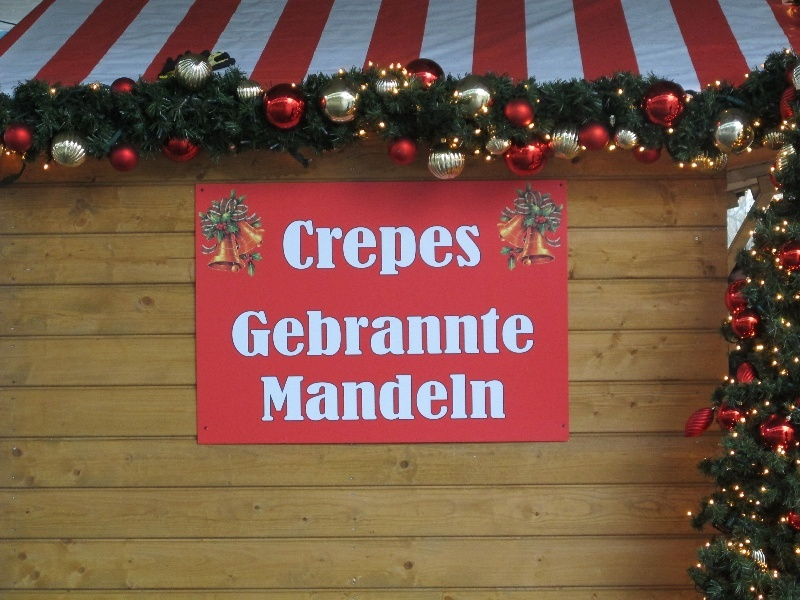text: (289, 219, 304, 279), (305, 219, 320, 279), (321, 219, 336, 279), (337, 219, 352, 279), (353, 219, 368, 279), (369, 219, 384, 279), (385, 219, 400, 279), (401, 219, 416, 279), (417, 219, 432, 279), (433, 219, 448, 279), (449, 219, 464, 279), (465, 219, 480, 279), (241, 308, 256, 358), (257, 308, 272, 358), (273, 308, 288, 358), (289, 308, 304, 358), (305, 308, 320, 358), (321, 308, 336, 358), (337, 308, 352, 358), (353, 308, 368, 358), (369, 308, 384, 358), (385, 308, 400, 358), (401, 308, 416, 358), (417, 308, 432, 358), (433, 308, 448, 358), (449, 308, 464, 358), (465, 308, 480, 358), (481, 308, 496, 358), (497, 308, 512, 358), (513, 308, 528, 358), (273, 374, 288, 422), (289, 374, 304, 422), (305, 374, 320, 422), (321, 374, 336, 422), (337, 374, 352, 422), (353, 374, 368, 422), (369, 374, 384, 422), (385, 374, 400, 422), (401, 374, 416, 422), (417, 374, 432, 422), (433, 374, 448, 422), (449, 374, 464, 422), (465, 374, 480, 422), (481, 374, 496, 422), (261, 374, 272, 422), (497, 374, 507, 422), (232, 308, 240, 358), (282, 219, 288, 279), (529, 308, 536, 358), (481, 219, 485, 279)
